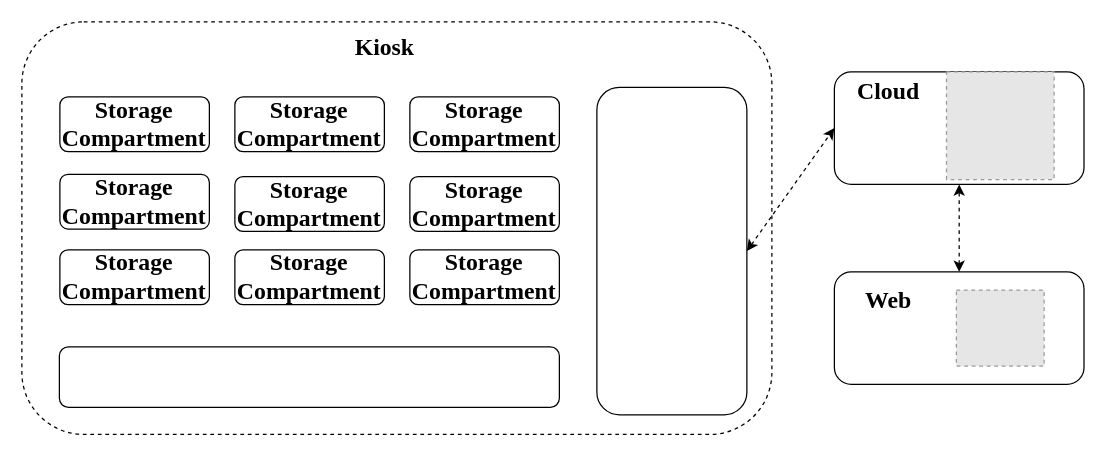
The diagram is 1106 pixels wide and 456 high, and some of its shapes have lost their labels. Grey dashed boxes stand in for pictures. The box of each missing label's shape, as (x1, y1, x2, y2) in pixels:
Central Compartment: (596, 86, 747, 415)
Delivery Compartment: (58, 346, 559, 407)
